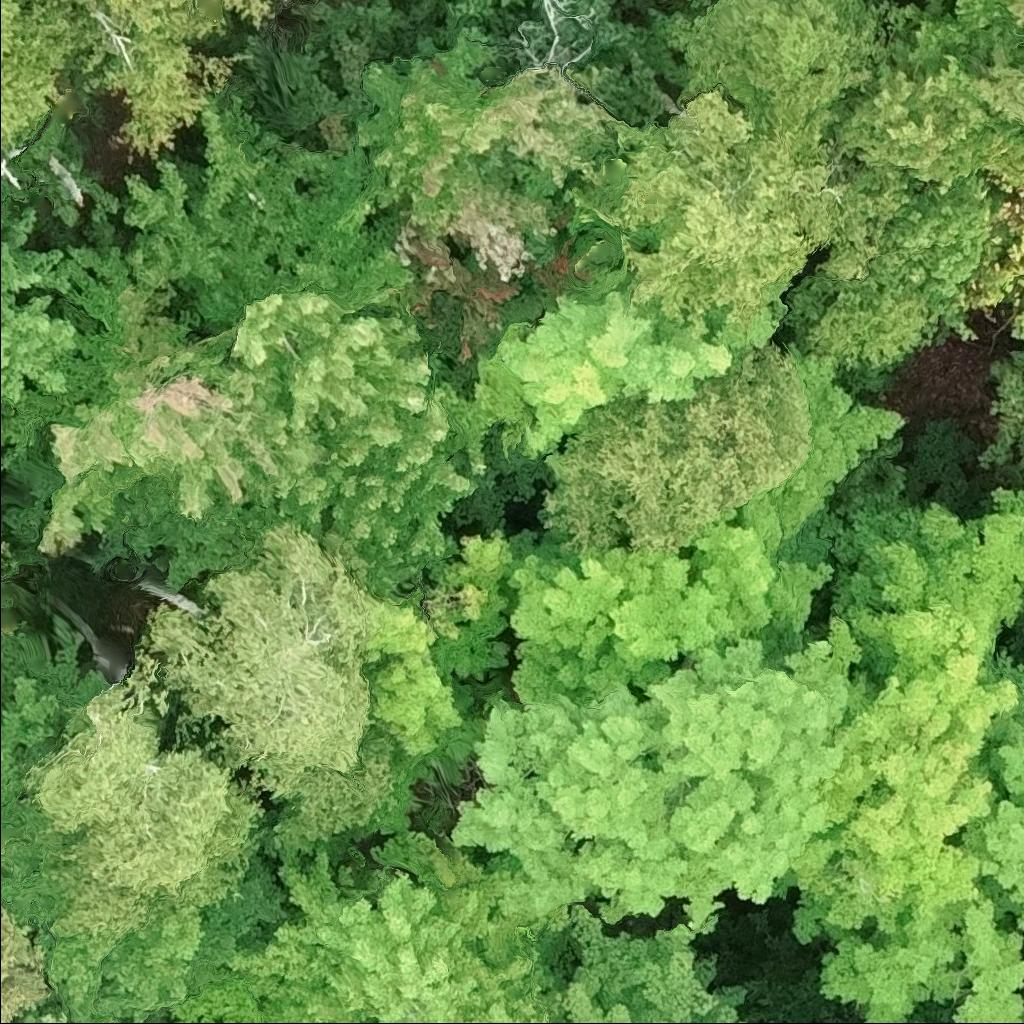crown: (446, 519, 880, 940), (787, 485, 1023, 950), (27, 232, 295, 593), (143, 521, 409, 864), (224, 286, 477, 595), (325, 20, 620, 283), (819, 650, 1023, 1023), (32, 638, 264, 962), (120, 92, 415, 344), (594, 90, 851, 342), (532, 340, 816, 560), (213, 849, 551, 1023), (438, 287, 733, 481), (669, 0, 890, 138), (829, 2, 989, 190), (77, 24, 252, 169), (551, 901, 755, 1023), (361, 600, 480, 778), (0, 615, 108, 806), (0, 0, 80, 152), (88, 0, 278, 45), (0, 908, 57, 1023), (409, 0, 535, 47), (976, 347, 1023, 471), (171, 978, 259, 1023), (0, 525, 21, 582), (997, 0, 1023, 32), (0, 830, 12, 873), (0, 622, 15, 637), (1014, 467, 1023, 488), (69, 0, 83, 10), (100, 1017, 123, 1023), (905, 1020, 920, 1023)
